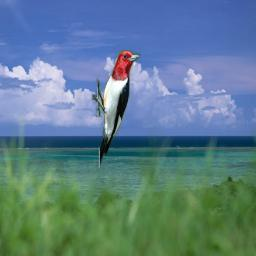Woodpecker: (91, 50, 141, 168)
